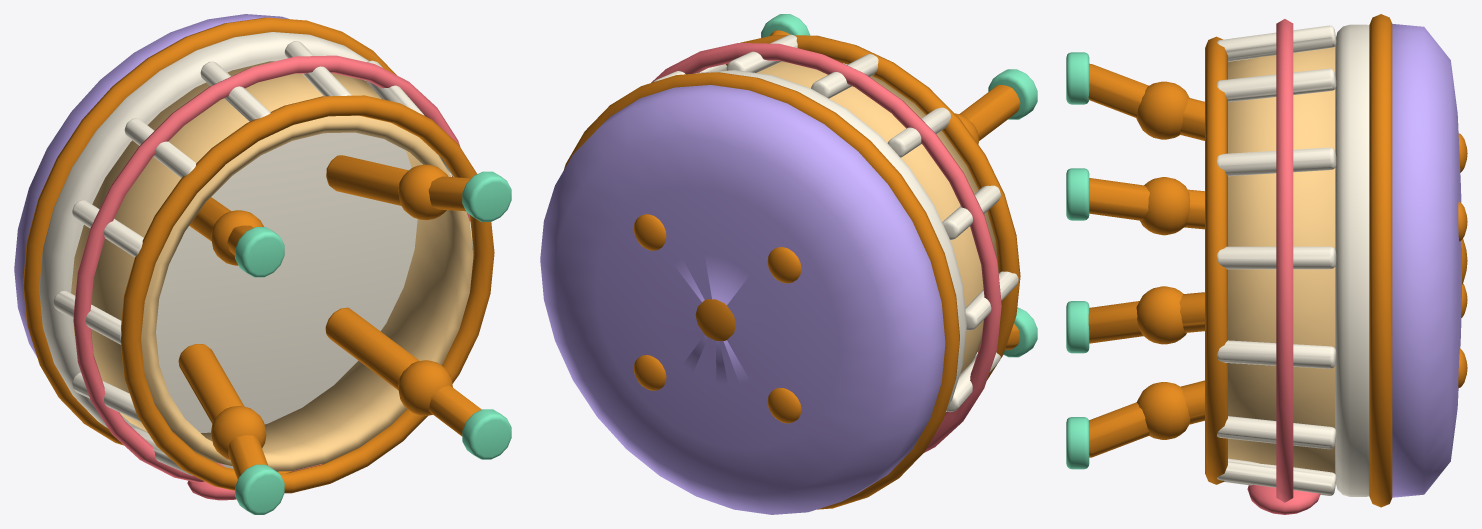
File: BedroomVanityStool_Premium.fbx
3 renders of one model, left to right at view 1: azimuth 30°, elevation 25°; view 2: azimuth 150°, elevation 25°; view 3: azimuth 270°, elevation 25°, orthographic. The views are drawn at different scales.
Visible parts, largest first — view 1: BedroomVanityStool; view 2: BedroomVanityStool; view 3: BedroomVanityStool.
Boxes of the visible parts, box(x1,y1,x2,y2) form: BedroomVanityStool: box(14, 14, 511, 514); BedroomVanityStool: box(540, 14, 1037, 514); BedroomVanityStool: box(1066, 14, 1467, 514).
Size of the model in its own units: 0.606 by 0.606 by 0.492.
